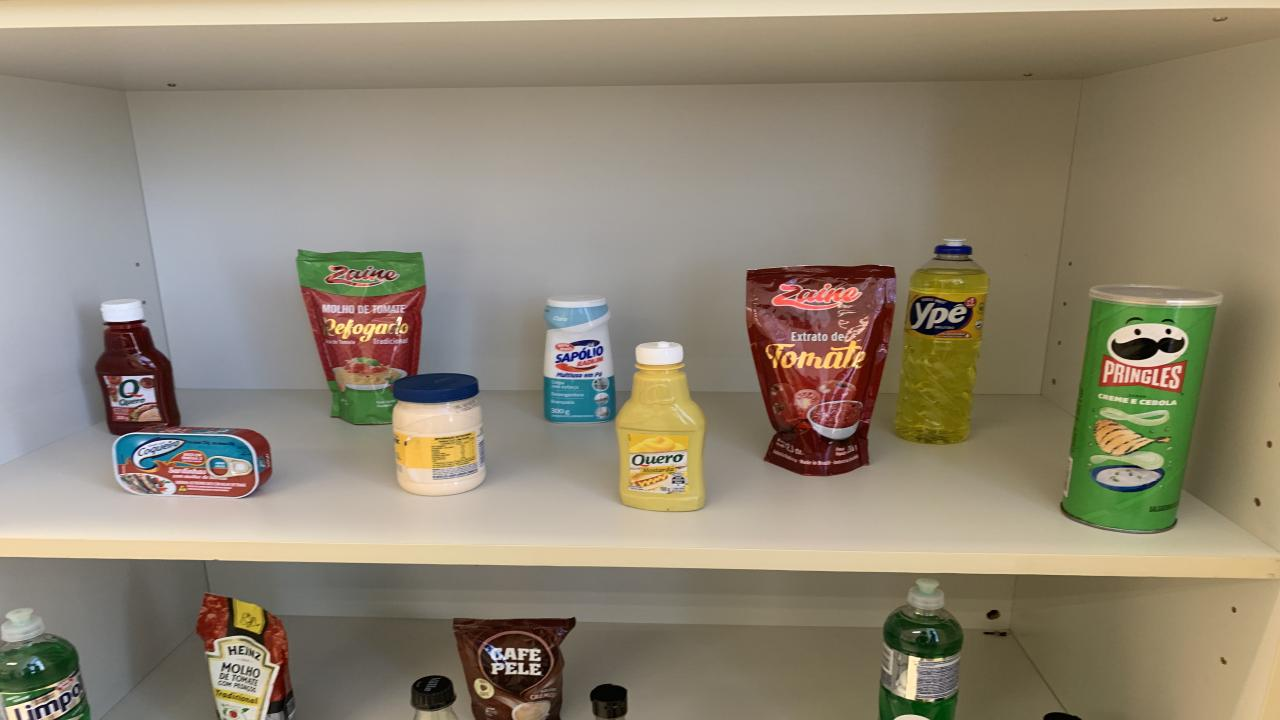Cleaner-Cleanup_Items: (545, 294, 615, 424)
Coffee-Pantry_Items: (452, 619, 575, 720)
Detergent-Cleanup_Items: (895, 240, 990, 444), (880, 578, 962, 720), (0, 608, 90, 720)
English_Sauce-Pantry_Items: (590, 684, 628, 720)
Ketchup-Pantry_Items: (95, 300, 180, 435)
Mayonnaise-Pantry_Items: (392, 373, 485, 495)
Mustard-Pantry_Items: (615, 341, 705, 512)
Pringles-Snacks: (1060, 285, 1222, 532)
Soda-Drinks: (410, 675, 458, 720)
Tomato_Sauce-Pantry_Items: (745, 266, 895, 476), (298, 249, 425, 426), (198, 594, 295, 720)
Tuna_Can-Pantry_Items: (112, 428, 272, 497)
